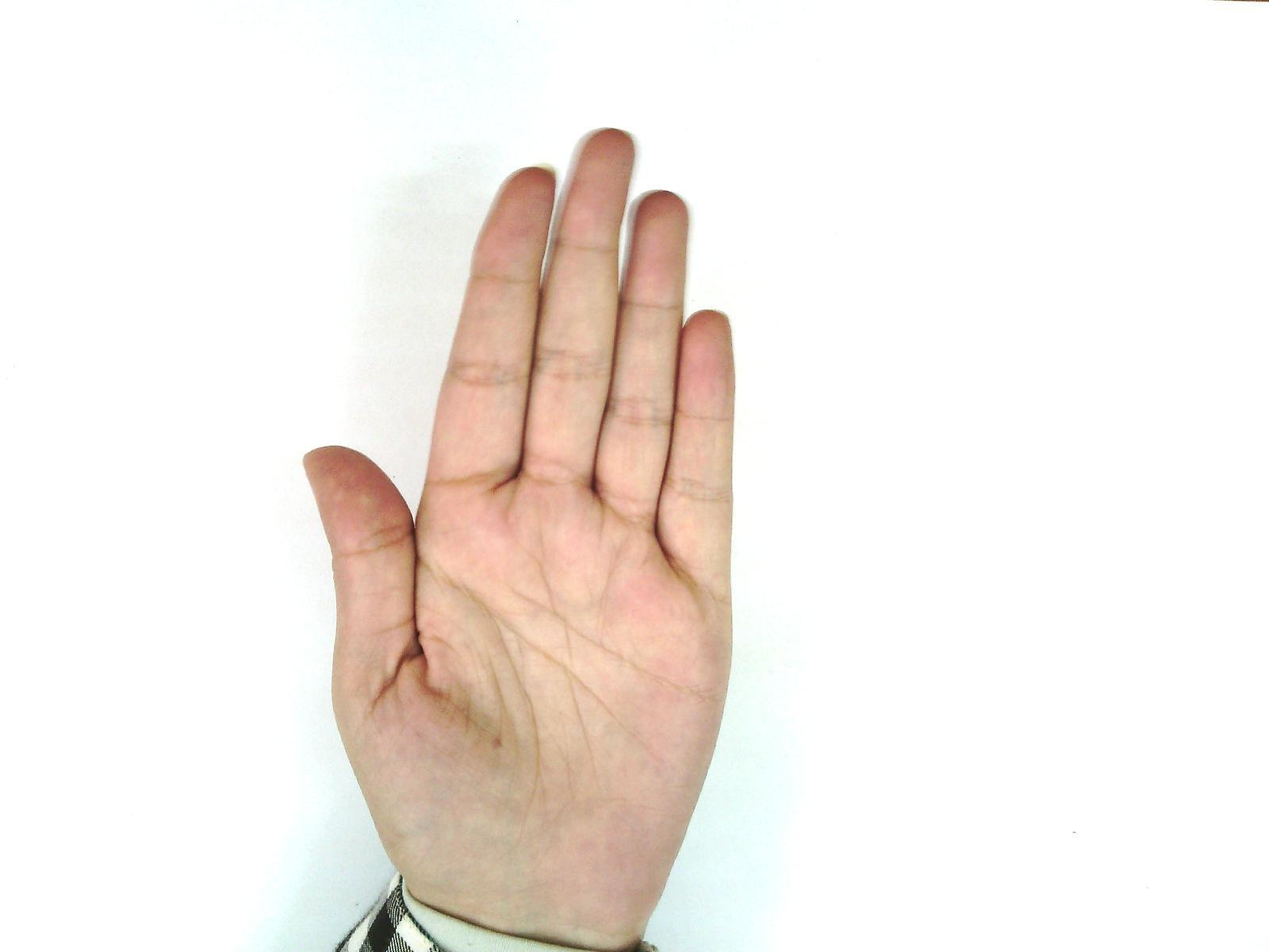open_palm: (301, 127, 740, 945)
